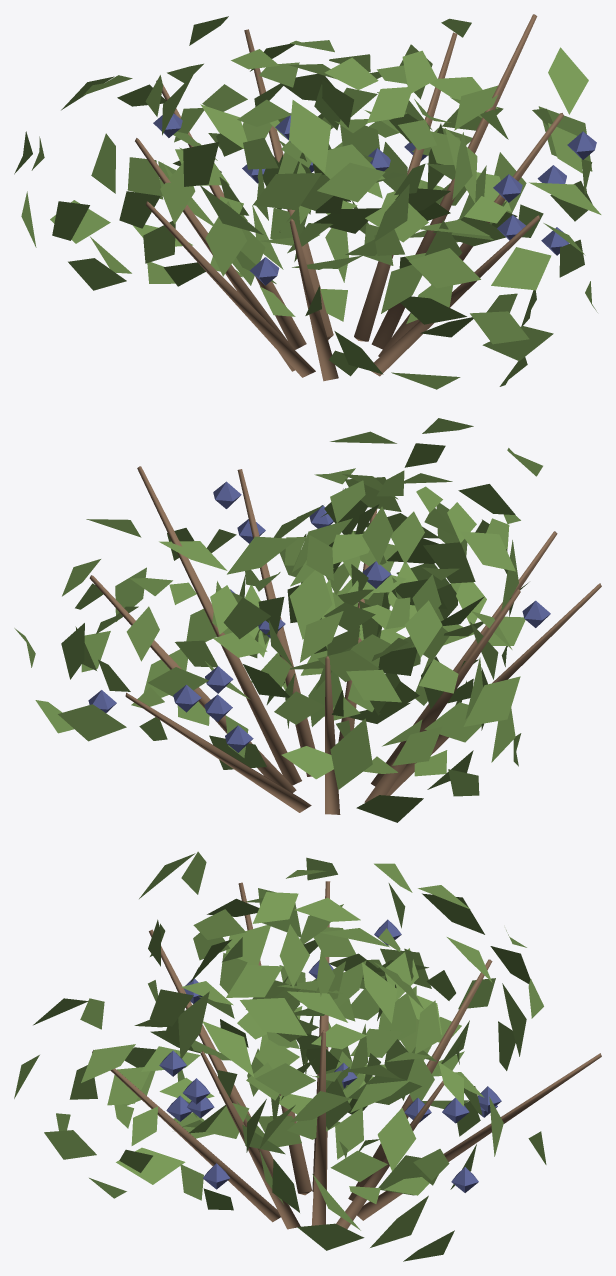
The model's file is berry-shrub.glb.
3 renders of one model, top to bottom at view 1: azimuth 30°, elevation 25°; view 2: azimuth 150°, elevation 25°; view 3: azimuth 270°, elevation 25°, orthographic. The views are drawn at different scales.
Parts seen in each view (by area): view 1: understory_berry-shrub_LOD0; view 2: understory_berry-shrub_LOD0; view 3: understory_berry-shrub_LOD0.
Part boxes in pixels (x1,y1,x2,y2): understory_berry-shrub_LOD0: [14, 14, 601, 389]; understory_berry-shrub_LOD0: [14, 418, 601, 822]; understory_berry-shrub_LOD0: [14, 851, 601, 1261].
Bounding box in the file's own units: 1.37 × 0.8744 × 1.4.
